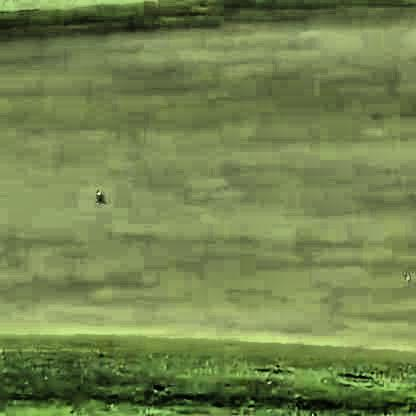golfball: (93, 184, 104, 197)
